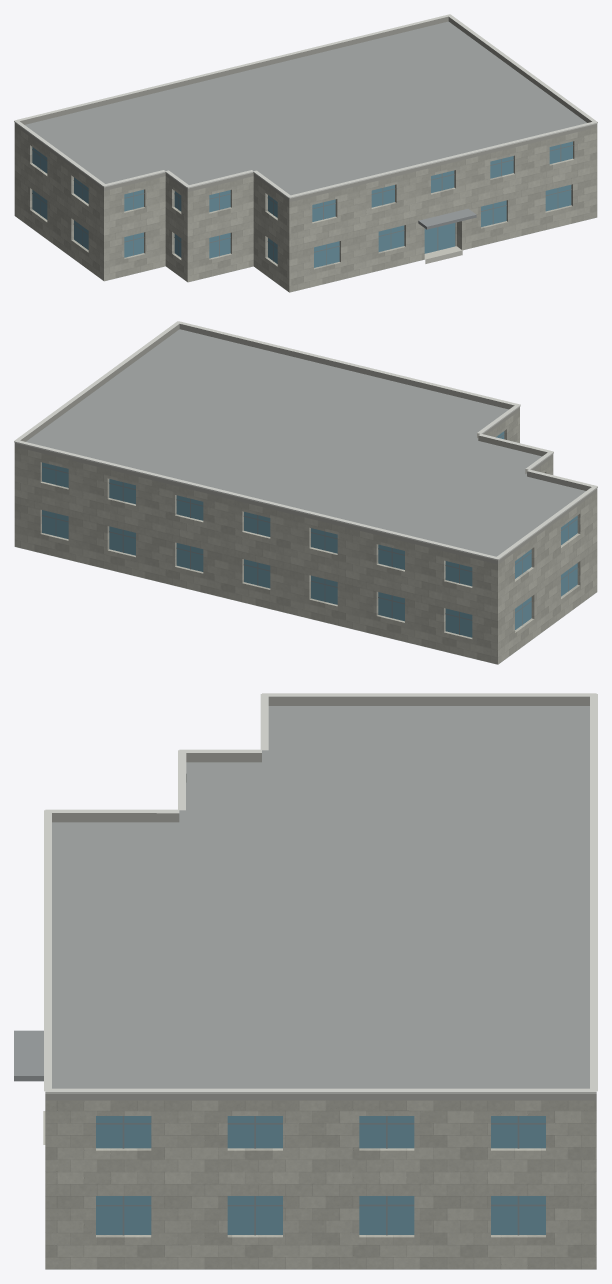
3 renders of one model, top to bottom at view 1: azimuth 30°, elevation 25°; view 2: azimuth 150°, elevation 25°; view 3: azimuth 270°, elevation 25°, orthographic. The views are drawn at different scales.
Parts seen in each view (by area): view 1: unist-batch-b109__parapet, b109__wall, b109__glass, b109__trim, b109__frame, b109__canopy, b109__entranceThreshold_0; view 2: unist-batch-b109__parapet, b109__wall, b109__glass, b109__trim, b109__frame; view 3: unist-batch-b109__parapet, b109__wall, b109__glass, b109__trim, b109__frame, b109__canopy.
Boxes of the visible parts, x1=… form: unist-batch-b109__parapet: x1=14, y1=16, x2=597, y2=292; b109__wall: x1=14, y1=126, x2=597, y2=292; b109__glass: x1=32, y1=141, x2=572, y2=267; b109__trim: x1=14, y1=14, x2=597, y2=198; b109__frame: x1=32, y1=144, x2=573, y2=265; b109__canopy: x1=418, y1=208, x2=476, y2=229; b109__entranceThreshold_0: x1=424, y1=246, x2=462, y2=263; unist-batch-b109__parapet: x1=14, y1=324, x2=597, y2=664; b109__wall: x1=14, y1=410, x2=597, y2=664; b109__glass: x1=42, y1=431, x2=577, y2=637; b109__trim: x1=14, y1=321, x2=597, y2=560; b109__frame: x1=42, y1=434, x2=577, y2=634; unist-batch-b109__parapet: x1=45, y1=696, x2=596, y2=1269; b109__wall: x1=45, y1=1100, x2=596, y2=1269; b109__glass: x1=96, y1=1116, x2=545, y2=1234; b109__trim: x1=44, y1=693, x2=597, y2=1093; b109__frame: x1=96, y1=1116, x2=545, y2=1235; b109__canopy: x1=14, y1=1030, x2=43, y2=1081.
Bounding box in the file's own units: 42.07 × 9.15 × 26.05.
7 materials, 1 textured.
